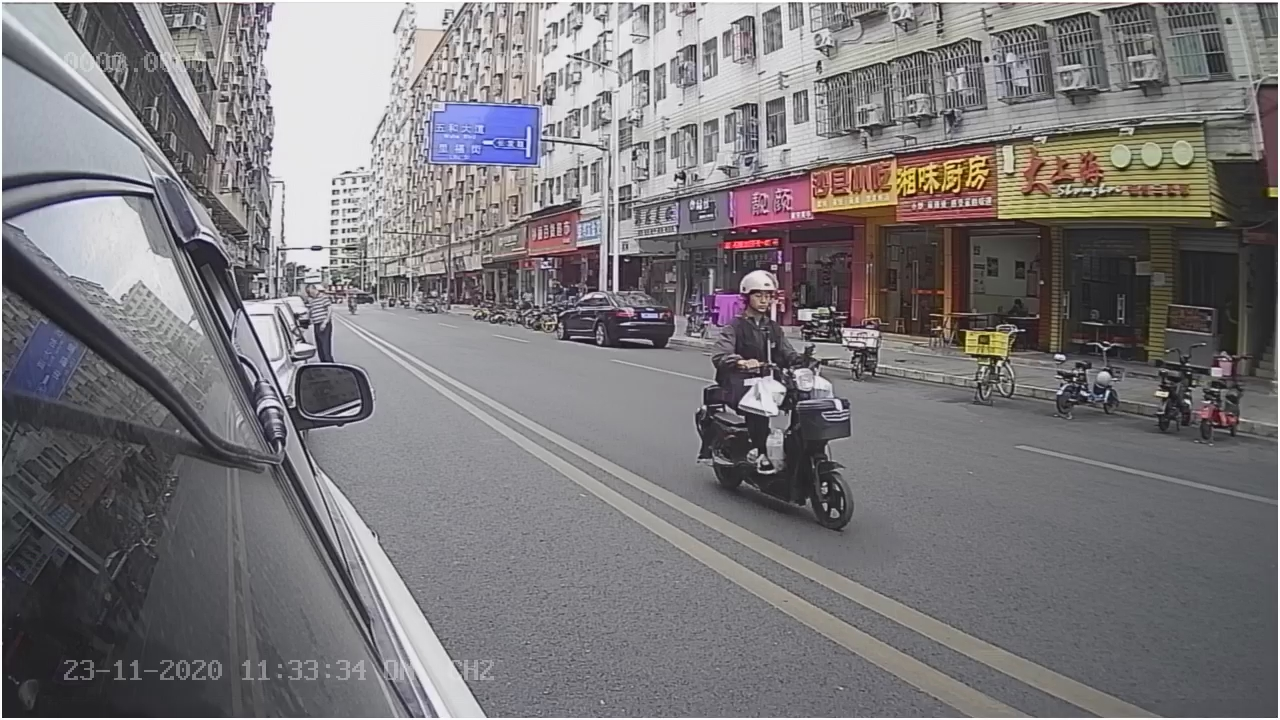person: (709, 265, 811, 374)
